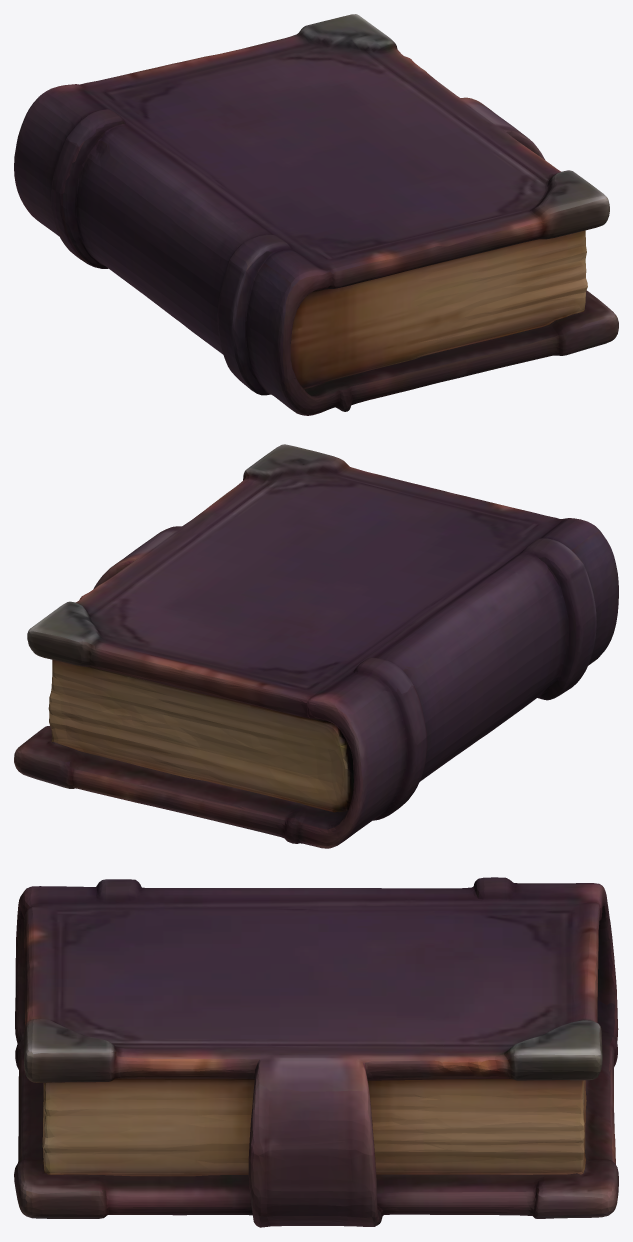
The model's file is spellbook.glb.
3 renders of one model, top to bottom at view 1: azimuth 30°, elevation 25°; view 2: azimuth 150°, elevation 25°; view 3: azimuth 270°, elevation 25°, orthographic. The views are drawn at different scales.
Parts seen in each view (by area): view 1: geometry_0.002; view 2: geometry_0.002; view 3: geometry_0.002.
Part boxes in pixels (x1,y1,x2,y2): geometry_0.002: [14, 14, 618, 415]; geometry_0.002: [14, 444, 618, 848]; geometry_0.002: [14, 877, 618, 1227].
Size of the model in its own units: 0.2961 by 0.1151 by 0.35.
1 material, 1 textured.
